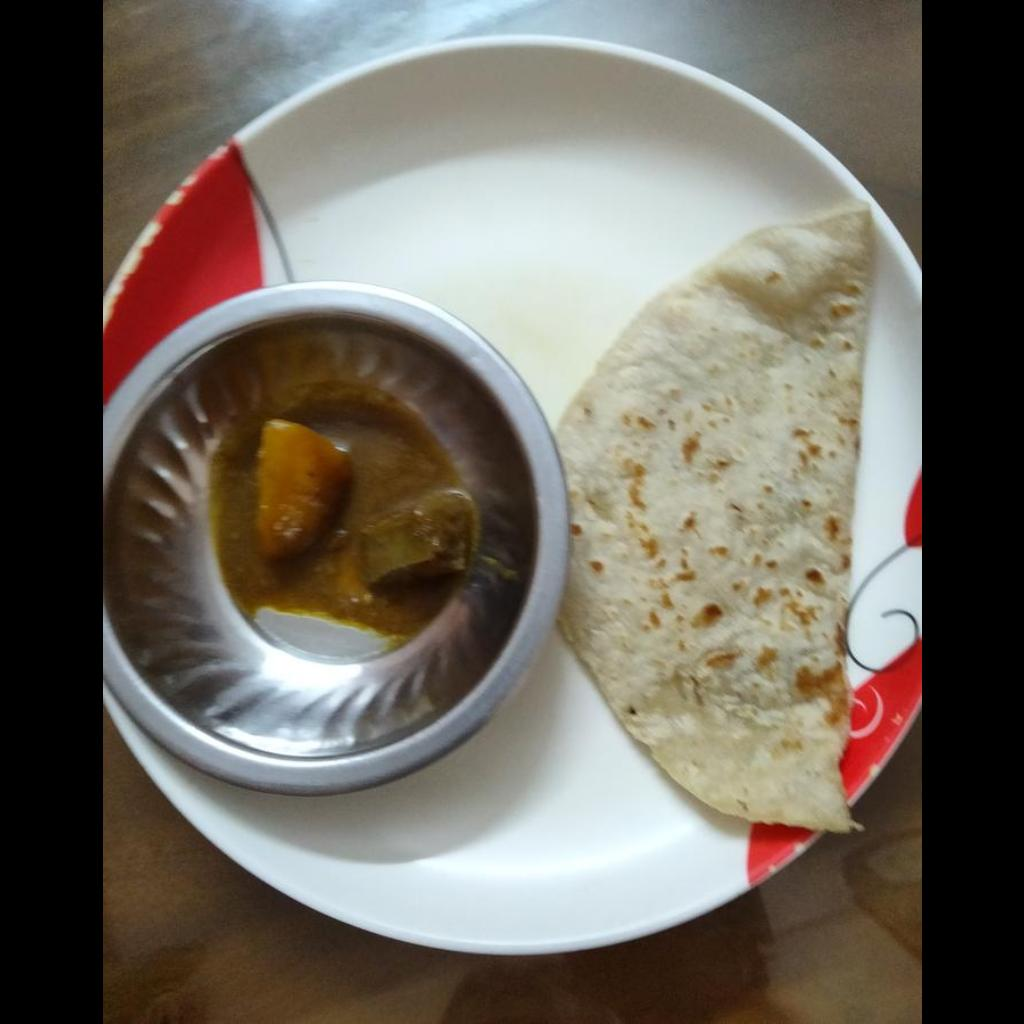beef: (364, 491, 472, 595)
potato: (254, 419, 351, 561)
ruti: (557, 197, 875, 828)
